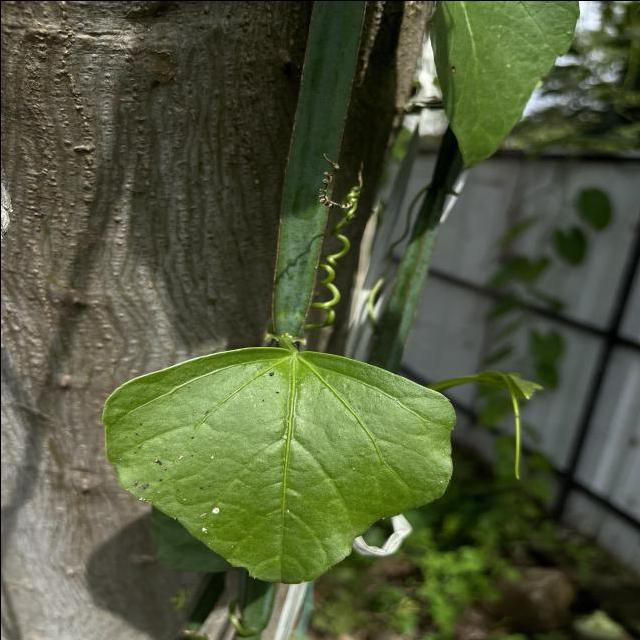Cissus quadrangularis: (98, 341, 458, 587)
